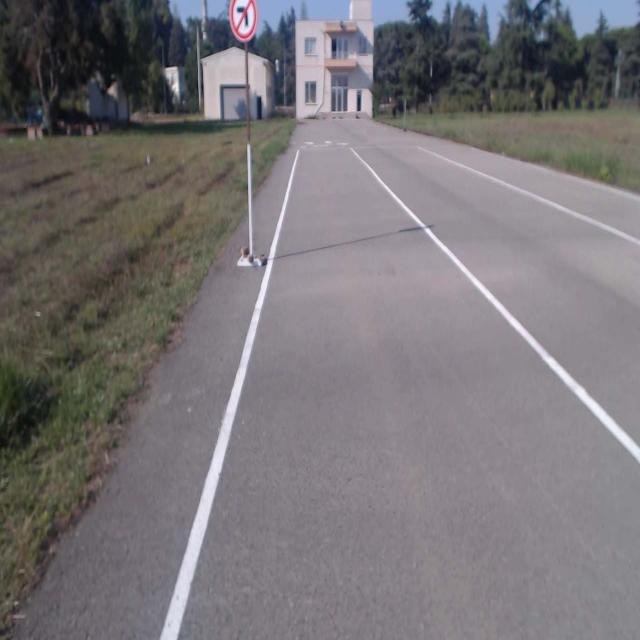soladonulmez: (232, 1, 256, 39)
